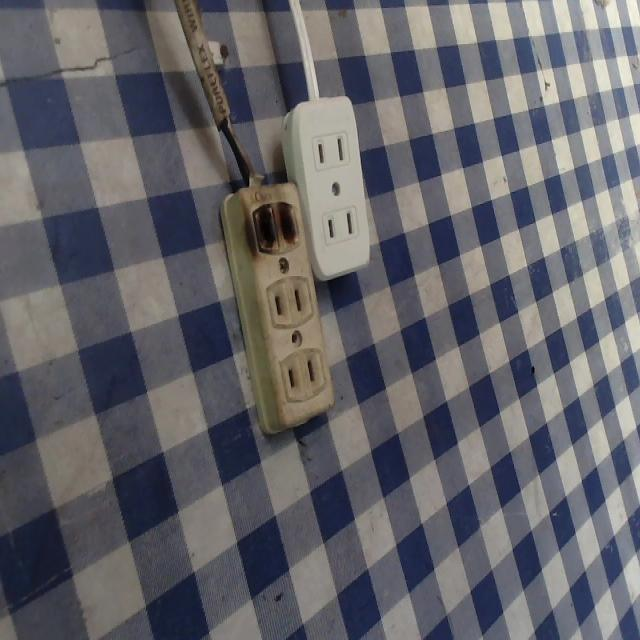-: (233, 194, 307, 258)
